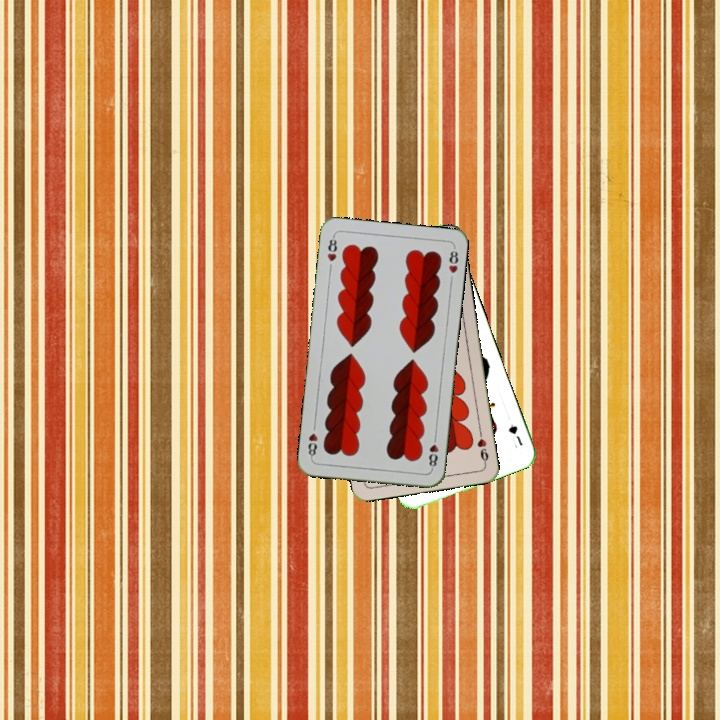GU: (504, 420, 526, 448)
H8: (425, 431, 441, 472), (323, 232, 339, 264)
H9: (473, 426, 491, 467)
